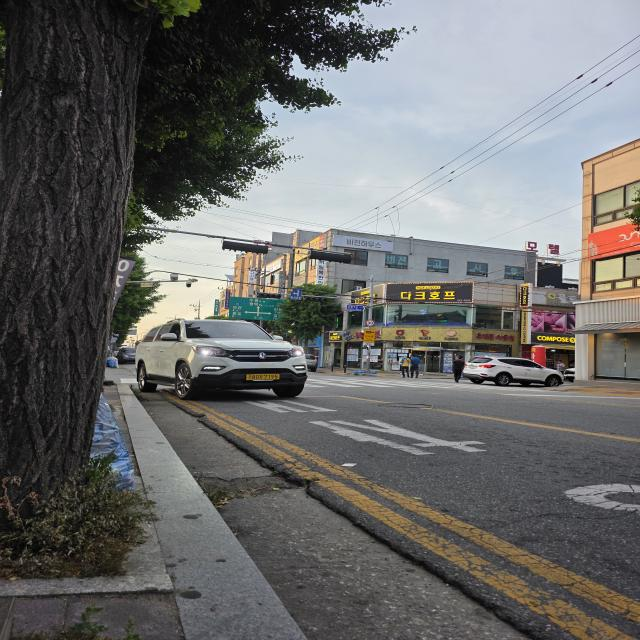car: (130, 306, 310, 408), (465, 355, 566, 387), (112, 341, 137, 365)
